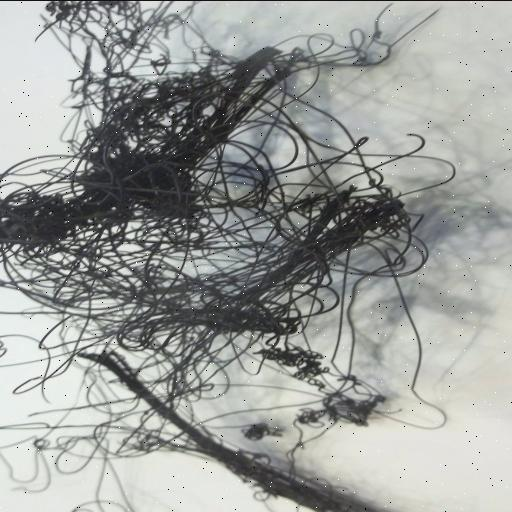spaghetti: (2, 6, 478, 494)
